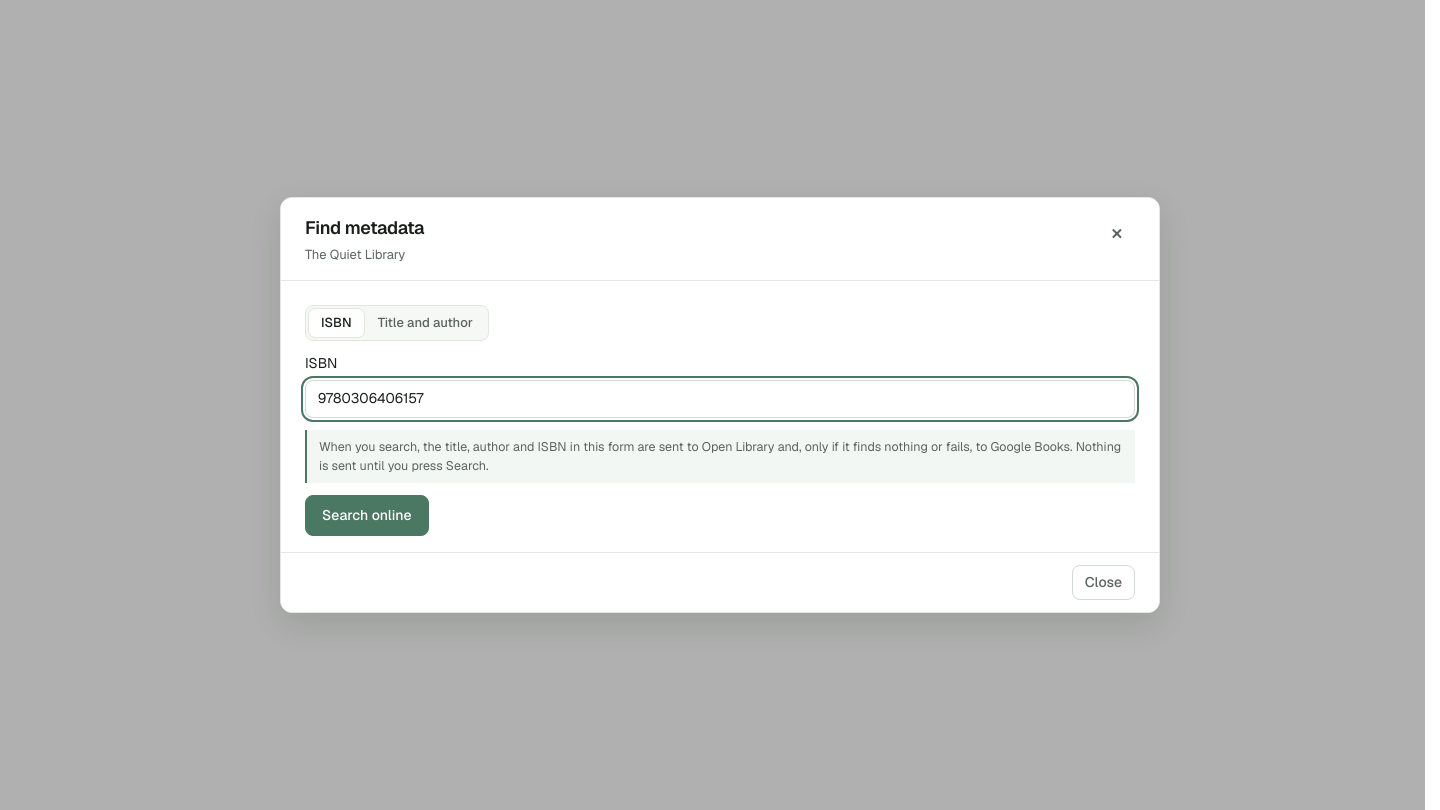
Scenario: FindMetadataDialog › searches by ISBN and applies the chosen fields with the provider as source
expect the field labelled "ISBN" is shown: met, box [305,380,1135,418]
Click the button "Search online".
click(367, 516)  # box [305,495,428,536]
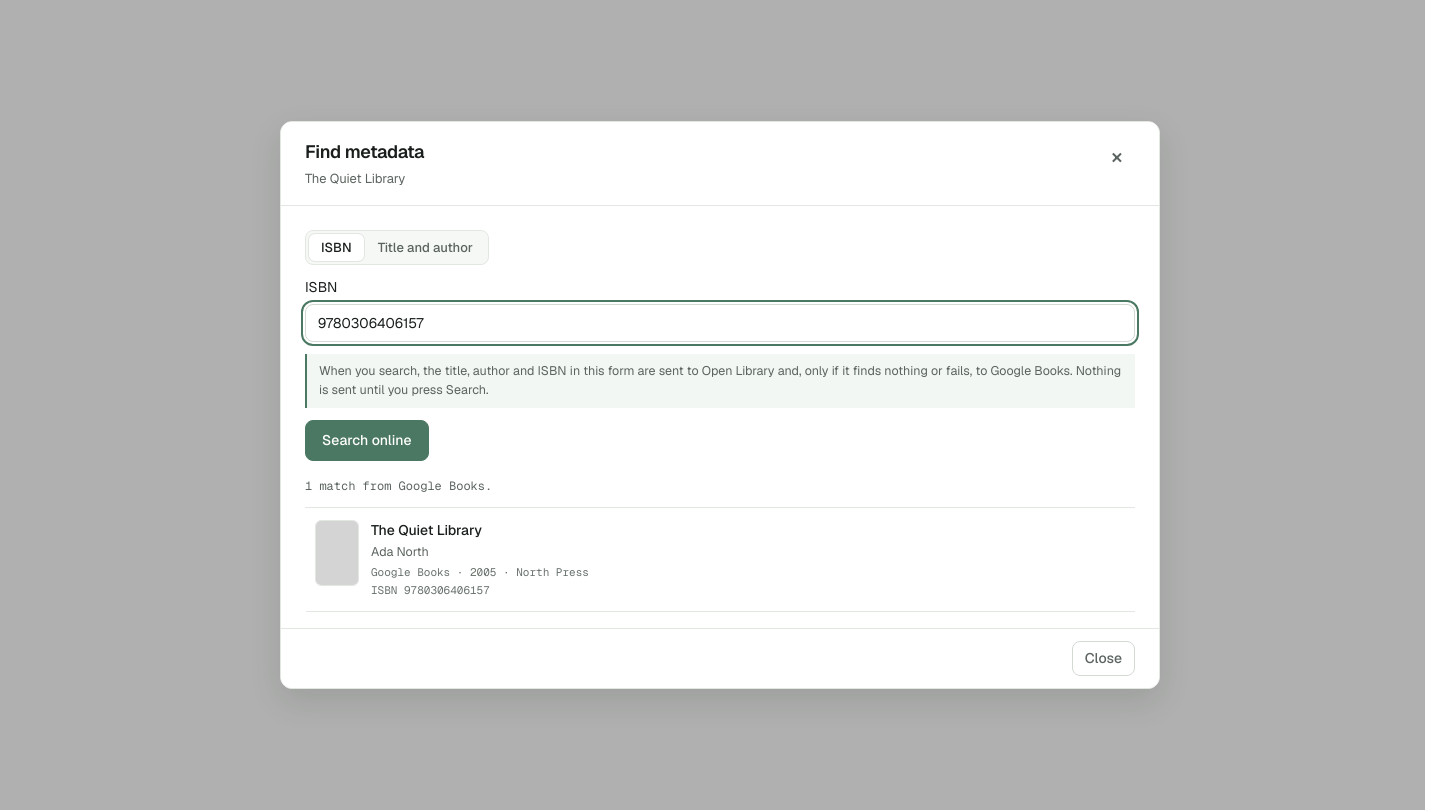
Click the button that starts with "The Quiet Library".
click(337, 553)  # box [305,508,1135,612]
(page scrolled)
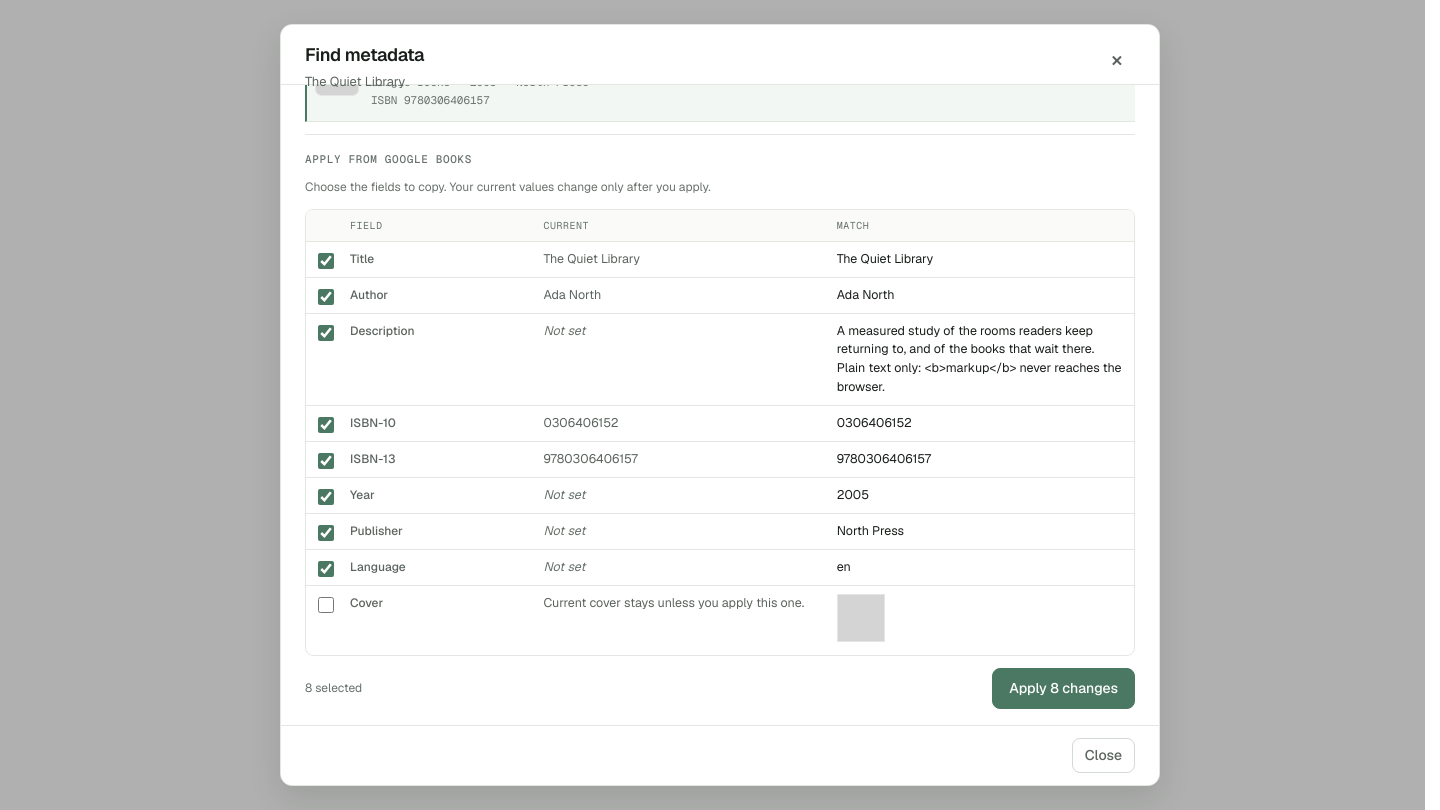
expect the 1st text "The Quiet Library" is shown: met, box [371,31,482,49]
expect the heading "Apply from Google Books" is shown: met, box [305,152,472,166]
Click the button "Apply 8 changes".
click(1064, 689)  # box [992,668,1135,709]
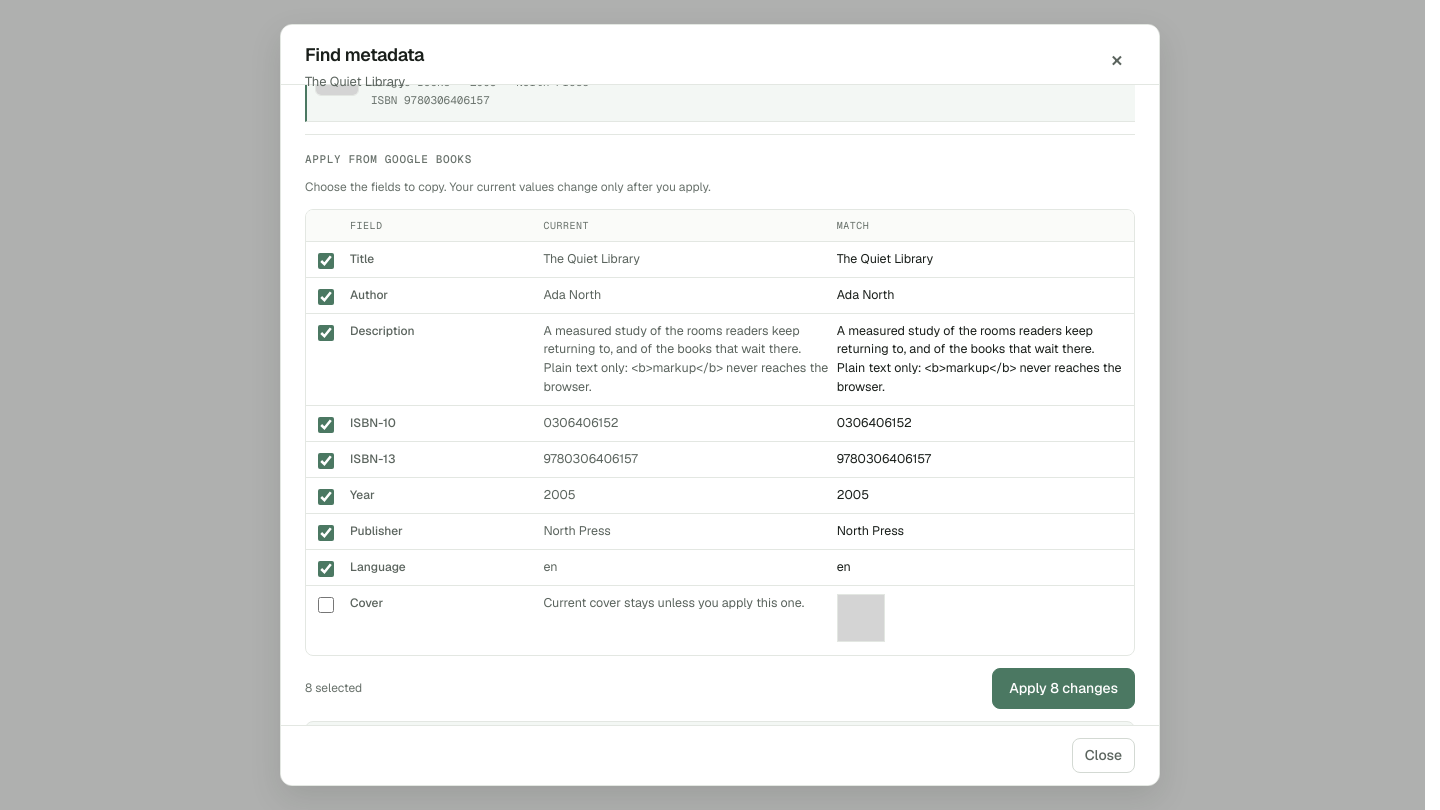
expect the text "Metadata applied." is shown: met, box [305,721,1135,767]
